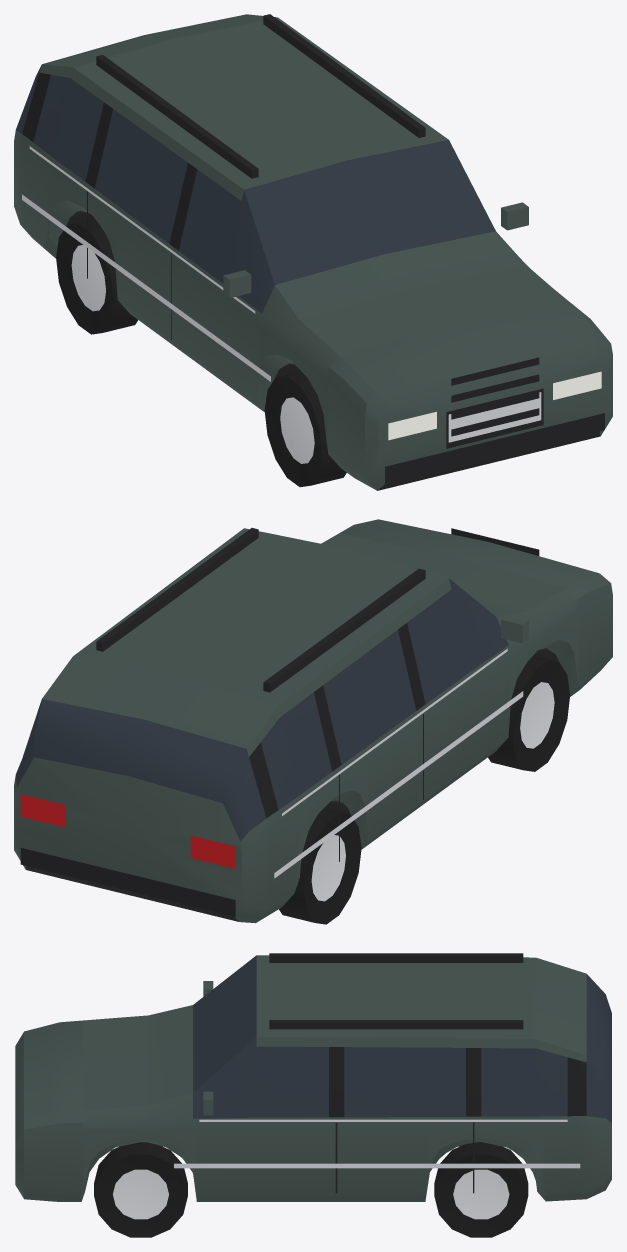
The model's file is seattle_suv.glb.
The picture shows the model from 3 angles, top to bottom: view 1: azimuth 30°, elevation 25°; view 2: azimuth 150°, elevation 25°; view 3: azimuth 270°, elevation 25°; orthographic projection. The views are drawn at different scales.
Visible parts, largest first — view 1: seattle_suv; view 2: seattle_suv; view 3: seattle_suv.
Boxes of the visible parts, box(x1,y1,x2,y2) form: seattle_suv: box(14, 14, 612, 490); seattle_suv: box(14, 519, 612, 924); seattle_suv: box(15, 953, 611, 1237).
Bounding box in the file's own units: 2.22 × 1.74 × 4.72.
Materials: 1 (1 with a texture image).
